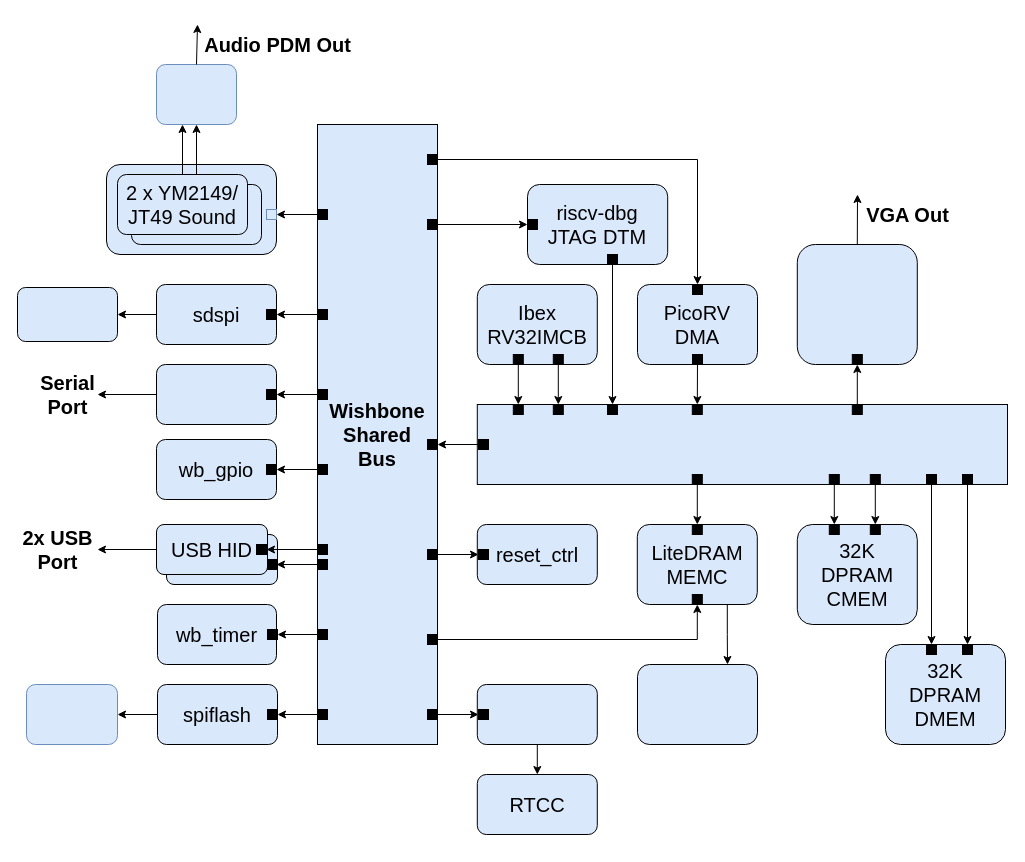
This 1025x862 diagram has some shape labels left out. The centre of each missing label's shape, as x and y in pixels:
"16MB Flash" goes at pixel 72 714.
"256MB DDR3" goes at pixel 697 704.
"Audio DAC" goes at pixel 196 94.
"microSD" goes at pixel 67 314.
"VERA Graphics 64KB VRAM" goes at pixel 856 304.
"wb_i2c" goes at pixel 536 714.
"wbuart32" goes at pixel 216 394.
"Wishbone Crossbar" goes at pixel 742 444.
